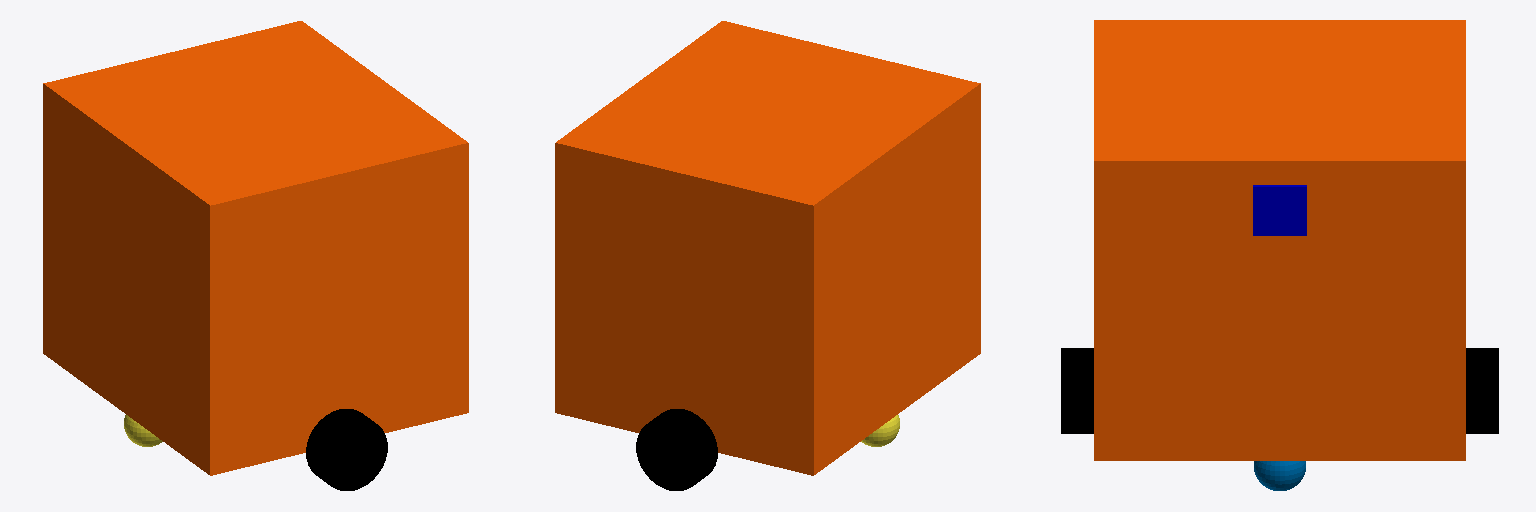
The robot description file, URDF, robot "piyabot":
<?xml version="1.0" encoding="utf-8"?>
<!-- =================================================================================== -->
<!-- |    This document was autogenerated by xacro from piyabot_delta.urdf.xacro       | -->
<!-- |    EDITING THIS FILE BY HAND IS NOT RECOMMENDED                                 | -->
<!-- =================================================================================== -->
<robot name="piyabot">
  <material name="black">
    <color rgba="0.0 0.0 0.0 1.0"/>
  </material>
  <material name="blue">
    <color rgba="0.0 0.0 0.8 1.0"/>
  </material>
  <material name="green">
    <color rgba="0.0 0.8 0.0 1.0"/>
  </material>
  <material name="grey">
    <color rgba="0.2 0.2 0.2 1.0"/>
  </material>
  <material name="orange">
    <color rgba="1.0 0.423529411765 0.0392156862745 1.0"/>
  </material>
  <material name="brown">
    <color rgba="0.870588235294 0.811764705882 0.764705882353 1.0"/>
  </material>
  <material name="red">
    <color rgba="0.8 0.0 0.0 1.0"/>
  </material>
  <material name="white">
    <color rgba="1.0 1.0 1.0 1.0"/>
  </material>
  <gazebo>
    <plugin filename="libgazebo_ros_control.so" name="gazebo_ros_control">
      <robotNamespace>/piyabot</robotNamespace>
    </plugin>
  </gazebo>
  <gazebo>
    <plugin filename="libgazebo_ros_diff_drive.so" name="differential_drive_controller">
      <alwaysOn>true</alwaysOn>
      <updateRate>100</updateRate>
      <leftJoint>left_wheel_hinge</leftJoint>
      <rightJoint>right_wheel_hinge</rightJoint>
      <wheelSeparation>0.305</wheelSeparation>
      <wheelDiameter>0.065</wheelDiameter>
      <wheelAcceleration>1</wheelAcceleration>
      <wheelTorque>20</wheelTorque>
      <rosDebugLevel>na</rosDebugLevel>
      <publishWheelTF>false</publishWheelTF>
      <publishTf>true</publishTf>
      <publishOdomTF>true</publishOdomTF>
      <publishWheelJointState>true</publishWheelJointState>
      <odometrySource>world</odometrySource>
      <commandTopic>cmd_vel</commandTopic>
      <odometryTopic>odom_diffdrive</odometryTopic>
      <odometryFrame>odom</odometryFrame>
      <robotBaseFrame>base_footprint</robotBaseFrame>
    </plugin>
  </gazebo>
  <gazebo>
    <plugin filename="libgazebo_ros_p3d.so" name="ground_truth">
      <frameName>map</frameName>
      <bodyName>chassis</bodyName>
      <topicName>odom</topicName>
      <updateRate>30.0</updateRate>
    </plugin>
  </gazebo>
  <gazebo reference="imu_link">
    <sensor name="imu" type="imu">
      <always_on>true</always_on>
      <visualize>false</visualize>
    </sensor>
    <material>Gazebo/FlatBlack</material>
  </gazebo>
  <gazebo reference="chassis">
    <material>Gazebo/Orange</material>
    <sensor name="gripper_contact_sensor" type="contact">
      <always_on>true</always_on>
      <update_rate>30.0</update_rate>
      <contact>
        <collision>chassis_collision</collision>
      </contact>
      <plugin filename="libgazebo_ros_bumper.so" name="chassis_bumper">
        <bumperTopicName>sensor/contact_sensor</bumperTopicName>
        <frameName>chassis_bumper</frameName>
        <alwayson>true</alwayson>
        <updaterate>30.0</updaterate>
      </plugin>
    </sensor>
  </gazebo>
  <gazebo reference="caster_back_wheel">
    <mu1>0.0</mu1>
    <mu2>0.0</mu2>
    <material>Gazebo/Red</material>
  </gazebo>
  <gazebo reference="caster_front_wheel">
    <mu1>0.0</mu1>
    <mu2>0.0</mu2>
    <material>Gazebo/Red</material>
  </gazebo>
  <gazebo reference="camera">
    <material>Gazebo/Grey</material>
    <sensor name="camera1" type="camera">
      <update_rate>30.0</update_rate>
      <camera name="head">
        <horizontal_fov>1.3962634</horizontal_fov>
        <image>
          <width>800</width>
          <height>800</height>
          <format>R8G8B8</format>
        </image>
        <clip>
          <near>0.02</near>
          <far>300</far>
        </clip>
      </camera>
      <plugin filename="libgazebo_ros_camera.so" name="camera_controller">
        <alwaysOn>true</alwaysOn>
        <updateRate>0.0</updateRate>
        <cameraName>camera1</cameraName>
        <imageTopicName>image_raw</imageTopicName>
        <cameraInfoTopicName>camera_info</cameraInfoTopicName>
        <frameName>camera_link</frameName>
        <hackBaseline>0.07</hackBaseline>
        <distortionK1>0.0</distortionK1>
        <distortionK2>0.0</distortionK2>
        <distortionK3>0.0</distortionK3>
        <distortionT1>0.0</distortionT1>
        <distortionT2>0.0</distortionT2>
      </plugin>
    </sensor>
  </gazebo>
  <gazebo>
    <plugin filename="libgazebo_ros_imu.so" name="imu_plugin">
      <alwaysOn>true</alwaysOn>
      <bodyName>imu_link</bodyName>
      <frameName>imu_link</frameName>
      <topicName>imu</topicName>
      <serviceName>imu_service</serviceName>
      <gaussianNoise>0.0</gaussianNoise>
      <updateRate>200</updateRate>
      <imu>
        <noise>
          <type>gaussian</type>
          <rate>
            <mean>0.0</mean>
            <stddev>2e-4</stddev>
            <bias_mean>0.0000075</bias_mean>
            <bias_stddev>0.0000008</bias_stddev>
          </rate>
          <accel>
            <mean>0.0</mean>
            <stddev>1.7e-2</stddev>
            <bias_mean>0.1</bias_mean>
            <bias_stddev>0.001</bias_stddev>
          </accel>
        </noise>
      </imu>
    </plugin>
  </gazebo>
  <gazebo reference="rplidar">
    <material>Gazebo/FlatBlack</material>
    <sensor name="lds_lfcd_sensor" type="ray">
      <pose>0 0 0 0 0 0</pose>
      <visualize>false</visualize>
      <update_rate>5</update_rate>
      <ray>
        <scan>
          <horizontal>
            <samples>360</samples>
            <resolution>1</resolution>
            <min_angle>0.0</min_angle>
            <max_angle>6.28319</max_angle>
          </horizontal>
        </scan>
        <range>
          <min>0.120</min>
          <max>3.5</max>
          <resolution>0.015</resolution>
        </range>
        <noise>
          <type>gaussian</type>
          <mean>0.0</mean>
          <stddev>0.01</stddev>
        </noise>
      </ray>
      <plugin filename="libgazebo_ros_laser.so" name="gazebo_ros_lds_lfcd_controller">
        <topicName>scan</topicName>
        <frameName>rplidar</frameName>
      </plugin>
    </sensor>
  </gazebo>
  <gazebo reference="base_sonar_front">
    <sensor name="TeraRanger" type="ray">
      <pose>0 0 0 0 0 0</pose>
      <visualize>false</visualize>
      <update_rate>50</update_rate>
      <ray>
        <scan>
          <horizontal>
            <samples>10</samples>
            <resolution>1</resolution>
            <min_angle>-0.14835</min_angle>
            <max_angle>0.14835</max_angle>
          </horizontal>
          <vertical>
            <samples>10</samples>
            <resolution>1</resolution>
            <min_angle>-0.14835</min_angle>
            <max_angle>0.14835</max_angle>
          </vertical>
        </scan>
        <range>
          <min>0.01</min>
          <max>2</max>
          <resolution>0.02</resolution>
        </range>
      </ray>
      <plugin filename="libgazebo_ros_range.so" name="gazebo_ros_range">
        <gaussianNoise>0.005</gaussianNoise>
        <alwaysOn>true</alwaysOn>
        <updateRate>50</updateRate>
        <topicName>sensor/sonar_front</topicName>
        <frameName>base_sonar_front</frameName>
        <radiation>SONAR</radiation>
        <fov>0.2967</fov>
      </plugin>
    </sensor>
  </gazebo>
  <gazebo reference="base_sonar_back">
    <sensor name="TeraRanger" type="ray">
      <pose>0 0 0 0 0 0</pose>
      <visualize>false</visualize>
      <update_rate>50</update_rate>
      <ray>
        <scan>
          <horizontal>
            <samples>10</samples>
            <resolution>1</resolution>
            <min_angle>-0.14835</min_angle>
            <max_angle>0.14835</max_angle>
          </horizontal>
          <vertical>
            <samples>10</samples>
            <resolution>1</resolution>
            <min_angle>-0.14835</min_angle>
            <max_angle>0.14835</max_angle>
          </vertical>
        </scan>
        <range>
          <min>0.01</min>
          <max>2</max>
          <resolution>0.02</resolution>
        </range>
      </ray>
      <plugin filename="libgazebo_ros_range.so" name="gazebo_ros_range">
        <gaussianNoise>0.005</gaussianNoise>
        <alwaysOn>true</alwaysOn>
        <updateRate>50</updateRate>
        <topicName>sensor/sonar_back</topicName>
        <frameName>base_sonar_back</frameName>
        <radiation>SONAR</radiation>
        <fov>0.2967</fov>
      </plugin>
    </sensor>
  </gazebo>
  <gazebo reference="base_sonar_left">
    <sensor name="TeraRanger" type="ray">
      <pose>0 0 0 0 0 0</pose>
      <visualize>false</visualize>
      <update_rate>50</update_rate>
      <ray>
        <scan>
          <horizontal>
            <samples>10</samples>
            <resolution>1</resolution>
            <min_angle>-0.14835</min_angle>
            <max_angle>0.14835</max_angle>
          </horizontal>
          <vertical>
            <samples>10</samples>
            <resolution>1</resolution>
            <min_angle>-0.14835</min_angle>
            <max_angle>0.14835</max_angle>
          </vertical>
        </scan>
        <range>
          <min>0.01</min>
          <max>2</max>
          <resolution>0.02</resolution>
        </range>
      </ray>
      <plugin filename="libgazebo_ros_range.so" name="gazebo_ros_range">
        <gaussianNoise>0.005</gaussianNoise>
        <alwaysOn>true</alwaysOn>
        <updateRate>50</updateRate>
        <topicName>sensor/sonar_left</topicName>
        <frameName>base_sonar_left</frameName>
        <radiation>SONAR</radiation>
        <fov>0.2967</fov>
      </plugin>
    </sensor>
  </gazebo>
  <gazebo reference="base_sonar_right">
    <sensor name="TeraRanger" type="ray">
      <pose>0 0 0 0 0 0</pose>
      <visualize>false</visualize>
      <update_rate>50</update_rate>
      <ray>
        <scan>
          <horizontal>
            <samples>10</samples>
            <resolution>1</resolution>
            <min_angle>-0.14835</min_angle>
            <max_angle>0.14835</max_angle>
          </horizontal>
          <vertical>
            <samples>10</samples>
            <resolution>1</resolution>
            <min_angle>-0.14835</min_angle>
            <max_angle>0.14835</max_angle>
          </vertical>
        </scan>
        <range>
          <min>0.01</min>
          <max>2</max>
          <resolution>0.02</resolution>
        </range>
      </ray>
      <plugin filename="libgazebo_ros_range.so" name="gazebo_ros_range">
        <gaussianNoise>0.005</gaussianNoise>
        <alwaysOn>true</alwaysOn>
        <updateRate>50</updateRate>
        <topicName>sensor/sonar_right</topicName>
        <frameName>base_sonar_right</frameName>
        <radiation>SONAR</radiation>
        <fov>0.2967</fov>
      </plugin>
    </sensor>
  </gazebo>
  <link name="base_footprint"/>
  <joint name="base_joint" type="fixed">
    <parent link="base_footprint"/>
    <child link="chassis"/>
    <origin rpy="0 0 0" xyz="0 0 0.0325"/>
  </joint>
  <link name="chassis">
    <collision>
      <origin rpy="0 0 0" xyz="0 0 0.125"/>
      <geometry>
        <box size="0.25 0.28 0.25"/>
      </geometry>
    </collision>
    <visual>
      <origin rpy="0 0 0" xyz="0 0 0.125"/>
      <geometry>
        <box size="0.25 0.28 0.25"/>
      </geometry>
      <material name="orange"/>
    </visual>
    <inertial>
      <origin rpy="0 0 0" xyz="0 0 0.125"/>
      <mass value="10"/>
      <inertia ixx="0.117416666667" ixy="0" ixz="0" iyy="0.104166666667" iyz="0" izz="0.104166666667"/>
    </inertial>
  </link>
  <joint name="imu_joint" type="fixed">
    <parent link="base_footprint"/>
    <child link="imu_link"/>
    <origin rpy="0 0 0" xyz="0 0 0"/>
  </joint>
  <link name="imu_link"/>
  <joint name="fixed_caster_back" type="fixed">
    <parent link="chassis"/>
    <child link="caster_back_wheel"/>
    <origin rpy="0 0 0" xyz="-0.105 0 -0.0125"/>
  </joint>
  <link name="caster_back_wheel">
    <collision>
      <origin rpy="0 0 0" xyz="0 0 0"/>
      <geometry>
        <sphere radius="0.02"/>
      </geometry>
    </collision>
    <visual>
      <origin rpy="0 0 0" xyz="0 0 0"/>
      <geometry>
        <sphere radius="0.02"/>
      </geometry>
    </visual>
    <inertial>
      <origin rpy="0 0 0" xyz="0 0 0"/>
      <mass value="0.1"/>
      <inertia ixx="1.6e-05" ixy="0" ixz="0" iyy="1.6e-05" iyz="0" izz="1.6e-05"/>
    </inertial>
  </link>
  <joint name="fixed_caster_front" type="fixed">
    <parent link="chassis"/>
    <child link="caster_front_wheel"/>
    <origin rpy="0 0 0" xyz="0.105 0 -0.0125"/>
  </joint>
  <link name="caster_front_wheel">
    <collision>
      <origin rpy="0 0 0" xyz="0 0 0"/>
      <geometry>
        <sphere radius="0.02"/>
      </geometry>
    </collision>
    <visual>
      <origin rpy="0 0 0" xyz="0 0 0"/>
      <geometry>
        <sphere radius="0.02"/>
      </geometry>
    </visual>
    <inertial>
      <origin rpy="0 0 0" xyz="0 0 0"/>
      <mass value="0.1"/>
      <inertia ixx="1.6e-05" ixy="0" ixz="0" iyy="1.6e-05" iyz="0" izz="1.6e-05"/>
    </inertial>
  </link>
  <link name="left_wheel">
    <collision>
      <origin rpy="0 1.57079632679 1.57079632679" xyz="0 0 0"/>
      <geometry>
        <cylinder length="0.025" radius="0.0325"/>
      </geometry>
    </collision>
    <visual>
      <origin rpy="0 1.57079632679 1.57079632679" xyz="0 0 0"/>
      <geometry>
        <cylinder length="0.025" radius="0.0325"/>
      </geometry>
      <material name="black"/>
    </visual>
    <inertial>
      <origin rpy="0 1.57079632679 1.57079632679" xyz="0 0 0"/>
      <mass value="0.2"/>
      <inertia ixx="6.32291666667e-05" ixy="0" ixz="0" iyy="6.32291666667e-05" iyz="0" izz="0.000105625"/>
    </inertial>
  </link>
  <gazebo reference="left_wheel">
    <mu1 value="1.0"/>
    <mu2 value="1.0"/>
    <kp value="10000000.0"/>
    <kd value="1.0"/>
    <fdir1 value="1 0 0"/>
    <material>Gazebo/Black</material>
  </gazebo>
  <joint name="left_wheel_hinge" type="continuous">
    <parent link="chassis"/>
    <child link="left_wheel"/>
    <!--<origin xyz="${+wheelPos-chassisLength/4} ${tY*wheelWidth/2+tY*chassisWidth/2} ${wheelRadius}" rpy="0 0 0" /> -->
    <origin rpy="0 0 0" xyz="0 -0.1525 0"/>
    <axis rpy="0 0 0" xyz="0 1 0"/>
    <limit effort="100" velocity="100"/>
    <joint_properties damping="0.0" friction="0.0"/>
  </joint>
  <transmission name="left_trans">
    <type>transmission_interface/SimpleTransmission</type>
    <joint name="left_wheel_hinge">
      <hardwareInterface>hardware_interface/EffortJointInterface</hardwareInterface>
    </joint>
    <actuator name="leftMotor">
      <hardwareInterface>hardware_interface/EffortJointInterface</hardwareInterface>
      <mechanicalReduction>10</mechanicalReduction>
    </actuator>
  </transmission>
  <link name="right_wheel">
    <collision>
      <origin rpy="0 1.57079632679 1.57079632679" xyz="0 0 0"/>
      <geometry>
        <cylinder length="0.025" radius="0.0325"/>
      </geometry>
    </collision>
    <visual>
      <origin rpy="0 1.57079632679 1.57079632679" xyz="0 0 0"/>
      <geometry>
        <cylinder length="0.025" radius="0.0325"/>
      </geometry>
      <material name="black"/>
    </visual>
    <inertial>
      <origin rpy="0 1.57079632679 1.57079632679" xyz="0 0 0"/>
      <mass value="0.2"/>
      <inertia ixx="6.32291666667e-05" ixy="0" ixz="0" iyy="6.32291666667e-05" iyz="0" izz="0.000105625"/>
    </inertial>
  </link>
  <gazebo reference="right_wheel">
    <mu1 value="1.0"/>
    <mu2 value="1.0"/>
    <kp value="10000000.0"/>
    <kd value="1.0"/>
    <fdir1 value="1 0 0"/>
    <material>Gazebo/Black</material>
  </gazebo>
  <joint name="right_wheel_hinge" type="continuous">
    <parent link="chassis"/>
    <child link="right_wheel"/>
    <!--<origin xyz="${+wheelPos-chassisLength/4} ${tY*wheelWidth/2+tY*chassisWidth/2} ${wheelRadius}" rpy="0 0 0" /> -->
    <origin rpy="0 0 0" xyz="0 0.1525 0"/>
    <axis rpy="0 0 0" xyz="0 1 0"/>
    <limit effort="100" velocity="100"/>
    <joint_properties damping="0.0" friction="0.0"/>
  </joint>
  <transmission name="right_trans">
    <type>transmission_interface/SimpleTransmission</type>
    <joint name="right_wheel_hinge">
      <hardwareInterface>hardware_interface/EffortJointInterface</hardwareInterface>
    </joint>
    <actuator name="rightMotor">
      <hardwareInterface>hardware_interface/EffortJointInterface</hardwareInterface>
      <mechanicalReduction>10</mechanicalReduction>
    </actuator>
  </transmission>
  <joint name="camera_joint" type="fixed">
    <origin rpy="0 0 0" xyz="0.125 0 0.21"/>
    <parent link="chassis"/>
    <child link="camera"/>
  </joint>
  <link name="camera">
    <collision>
      <origin rpy="0 0 0" xyz="0 0 0"/>
      <geometry>
        <box size="0.01 0.04 0.04"/>
      </geometry>
    </collision>
    <visual>
      <origin rpy="0 0 0" xyz="0 0 0"/>
      <geometry>
        <box size="0.01 0.04 0.04"/>
      </geometry>
      <material name="blue"/>
    </visual>
    <inertial>
      <mass value="0.1"/>
      <origin rpy="0 0 0" xyz="0 0 0"/>
      <inertia ixx="2.66666666667e-05" ixy="0" ixz="0" iyy="1.41666666667e-05" iyz="0" izz="1.41666666667e-05"/>
    </inertial>
  </link>
  <joint name="rplidar_joint" type="fixed">
    <origin rpy="0 0 0" xyz="0 0 0.265"/>
    <parent link="chassis"/>
    <child link="rplidar"/>
  </joint>
  <link name="rplidar">
    <collision>
      <origin rpy="0 0 0" xyz="0 0 0"/>
      <geometry>
        <box size="0.06 0.06 0.06"/>
      </geometry>
    </collision>
    <visual>
      <origin rpy="0 0 3.14159265359" xyz="0 0 0"/>
      <geometry>
        <!--<box size="${rplidarSize} ${rplidarSize} ${rplidarSize}"/>-->
        <mesh filename="package://bot_description/meshes/sensors/lds.stl" scale="0.001 0.001 0.001"/>
        <!--<mesh filename="package://piyabot_description/meshes/sensors/rplidar_main.STL" scale="0.001 0.001 0.001"/>-->
      </geometry>
      <material name="brown"/>
    </visual>
    <inertial>
      <mass value="0.2"/>
      <origin rpy="0 0 0" xyz="0 0 0"/>
      <inertia ixx="0.00012" ixy="0" ixz="0" iyy="0.00012" iyz="0" izz="0.00012"/>
    </inertial>
  </link>
  <joint name="sonar_front_joint" type="fixed">
    <origin rpy="0 0 0" xyz="0.125 0 0.125"/>
    <parent link="chassis"/>
    <child link="base_sonar_front"/>
  </joint>
  <link name="base_sonar_front">
    <collision>
      <origin rpy="0 0 0" xyz="0 0 0"/>
      <geometry>
        <box size="0.01 0.04 0.01"/>
      </geometry>
    </collision>
    <visual>
      <origin rpy="1.57079632679 0 1.57079632679" xyz="-0.01 -0.0225 -0.01"/>
      <geometry>
        <!--<box size="${sonarLength} ${sonarWidth} ${sonarHeight}"/>-->
        <mesh filename="package://bot_description/meshes/sensors/HC-SR04.stl" scale="0.001 0.001 0.001"/>
      </geometry>
      <material name="white"/>
    </visual>
    <inertial>
      <mass value="1e-5"/>
      <origin rpy="0 0 0" xyz="0 0 0"/>
      <inertia ixx="1.41666666667e-09" ixy="0" ixz="0" iyy="1.66666666667e-10" iyz="0" izz="1.66666666667e-10"/>
    </inertial>
  </link>
  <joint name="sonar_back_joint" type="fixed">
    <axis xyz="0 1 0"/>
    <origin rpy="0 0 3.14159265359" xyz="-0.125 0 0.125"/>
    <parent link="chassis"/>
    <child link="base_sonar_back"/>
  </joint>
  <link name="base_sonar_back">
    <collision>
      <origin rpy="0 0 0" xyz="0 0 0"/>
      <geometry>
        <box size="0.01 0.04 0.01"/>
      </geometry>
    </collision>
    <visual>
      <origin rpy="1.57079632679 0 1.57079632679" xyz="-0.01 -0.0225 -0.01"/>
      <geometry>
        <!--<box size="${sonarLength} ${sonarWidth} ${sonarHeight}"/>-->
        <mesh filename="package://bot_description/meshes/sensors/HC-SR04.stl" scale="0.001 0.001 0.001"/>
      </geometry>
      <material name="white"/>
    </visual>
    <inertial>
      <mass value="1e-5"/>
      <origin rpy="0 0 0" xyz="0 0 0"/>
      <inertia ixx="1.41666666667e-09" ixy="0" ixz="0" iyy="1.66666666667e-10" iyz="0" izz="1.66666666667e-10"/>
    </inertial>
  </link>
  <joint name="sonar_left_joint" type="fixed">
    <origin rpy="0 0 1.57079632679" xyz="0 0.14 0.125"/>
    <parent link="chassis"/>
    <child link="base_sonar_left"/>
  </joint>
  <link name="base_sonar_left">
    <collision>
      <origin rpy="0 0 0" xyz="0 0 0"/>
      <geometry>
        <box size="0.01 0.04 0.01"/>
      </geometry>
    </collision>
    <visual>
      <origin rpy="1.57079632679 0 1.57079632679" xyz="-0.01 -0.0225 -0.01"/>
      <geometry>
        <!--<box size="${sonarLength} ${sonarWidth} ${sonarHeight}"/>-->
        <mesh filename="package://bot_description/meshes/sensors/HC-SR04.stl" scale="0.001 0.001 0.001"/>
      </geometry>
      <material name="white"/>
    </visual>
    <inertial>
      <mass value="1e-5"/>
      <origin rpy="0 0 0" xyz="0 0 0"/>
      <inertia ixx="1.41666666667e-09" ixy="0" ixz="0" iyy="1.66666666667e-10" iyz="0" izz="1.66666666667e-10"/>
    </inertial>
  </link>
  <joint name="sonar_right_joint" type="fixed">
    <origin rpy="0 0 -1.57079632679" xyz="0 -0.14 0.125"/>
    <parent link="chassis"/>
    <child link="base_sonar_right"/>
  </joint>
  <link name="base_sonar_right">
    <collision>
      <origin rpy="0 0 0" xyz="0 0 0"/>
      <geometry>
        <box size="0.01 0.04 0.01"/>
      </geometry>
    </collision>
    <visual>
      <origin rpy="1.57079632679 0 1.57079632679" xyz="-0.01 -0.0225 -0.01"/>
      <geometry>
        <!--<box size="${sonarLength} ${sonarWidth} ${sonarHeight}"/>-->
        <mesh filename="package://bot_description/meshes/sensors/HC-SR04.stl" scale="0.001 0.001 0.001"/>
      </geometry>
      <material name="white"/>
    </visual>
    <inertial>
      <mass value="1e-5"/>
      <origin rpy="0 0 0" xyz="0 0 0"/>
      <inertia ixx="1.41666666667e-09" ixy="0" ixz="0" iyy="1.66666666667e-10" iyz="0" izz="1.66666666667e-10"/>
    </inertial>
  </link>
</robot>

--- What the picture shows (computed from the rendered views, not written in the file) ---
The picture shows the robot from 3 angles, left to right: view 1: azimuth 30°, elevation 25°; view 2: azimuth 150°, elevation 25°; view 3: azimuth 270°, elevation 25°; orthographic projection.
Model piyabot with 13 links and 12 joints (2 continuous, 10 fixed), rooted at base_footprint, posed all joints at 0.
Visible links, largest first — view 1: chassis, left_wheel, caster_back_wheel; view 2: chassis, right_wheel, caster_back_wheel; view 3: chassis, left_wheel, right_wheel, camera, caster_front_wheel.
Boxes of the visible links, x1,y1,x2,y2 form: chassis: (43, 21, 468, 475); left_wheel: (306, 409, 387, 490); caster_back_wheel: (124, 415, 162, 446); chassis: (555, 21, 980, 475); right_wheel: (636, 409, 717, 490); caster_back_wheel: (861, 415, 899, 446); chassis: (1094, 20, 1465, 460); left_wheel: (1061, 348, 1093, 433); right_wheel: (1466, 348, 1498, 433); camera: (1253, 185, 1306, 235); caster_front_wheel: (1254, 461, 1305, 490).
Size in the robot's own frame: 0.255 by 0.33 by 0.2825 metres.
0 mesh visuals loaded from 2 distinct referenced files (none loaded); not drawn: 5 (reference not matched to a file when rendering).
